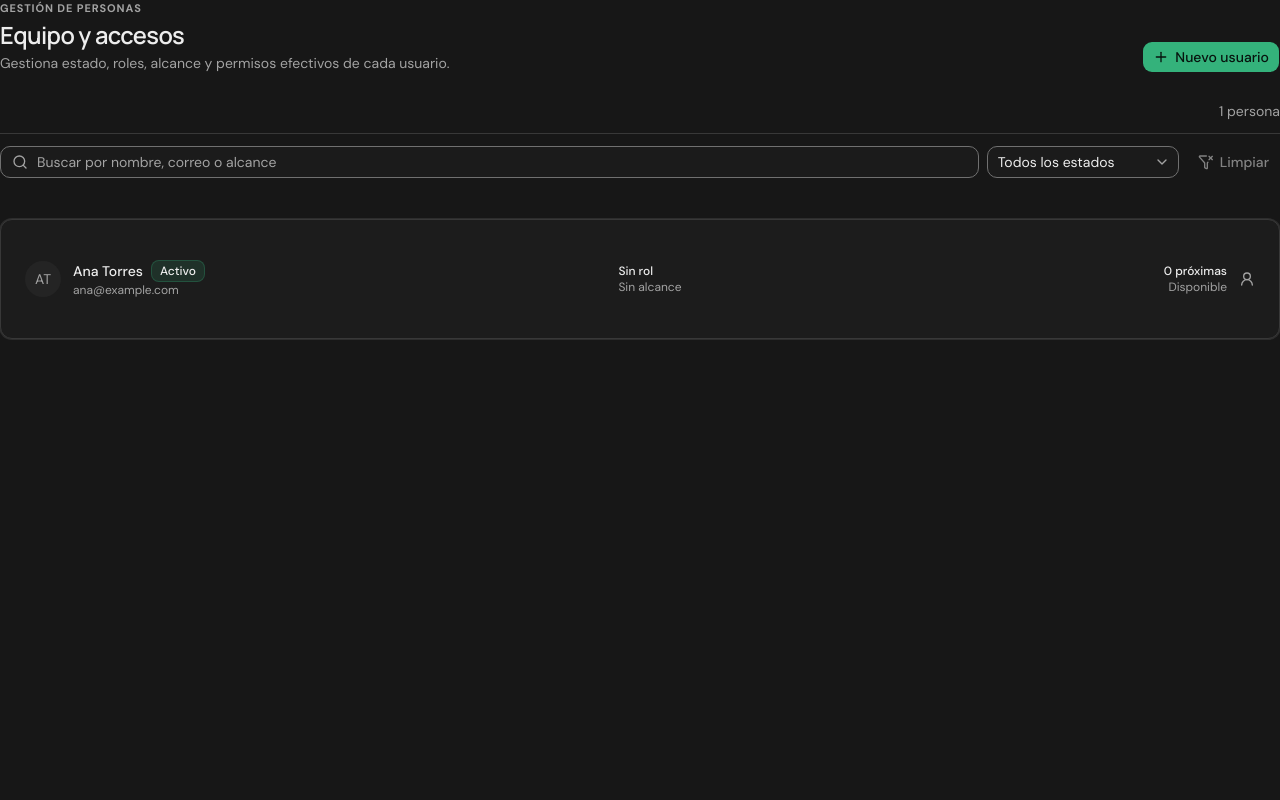
Test case: TeamWorkspace › exposes create and edit identity flows only to a global administrator
This screenshot has width=1280, height=800.
Expected: the button "Nuevo usuario" is shown, [1142, 41, 1279, 73]
Click the button "Ana Torres" at (640, 279), box [13, 248, 1267, 310]
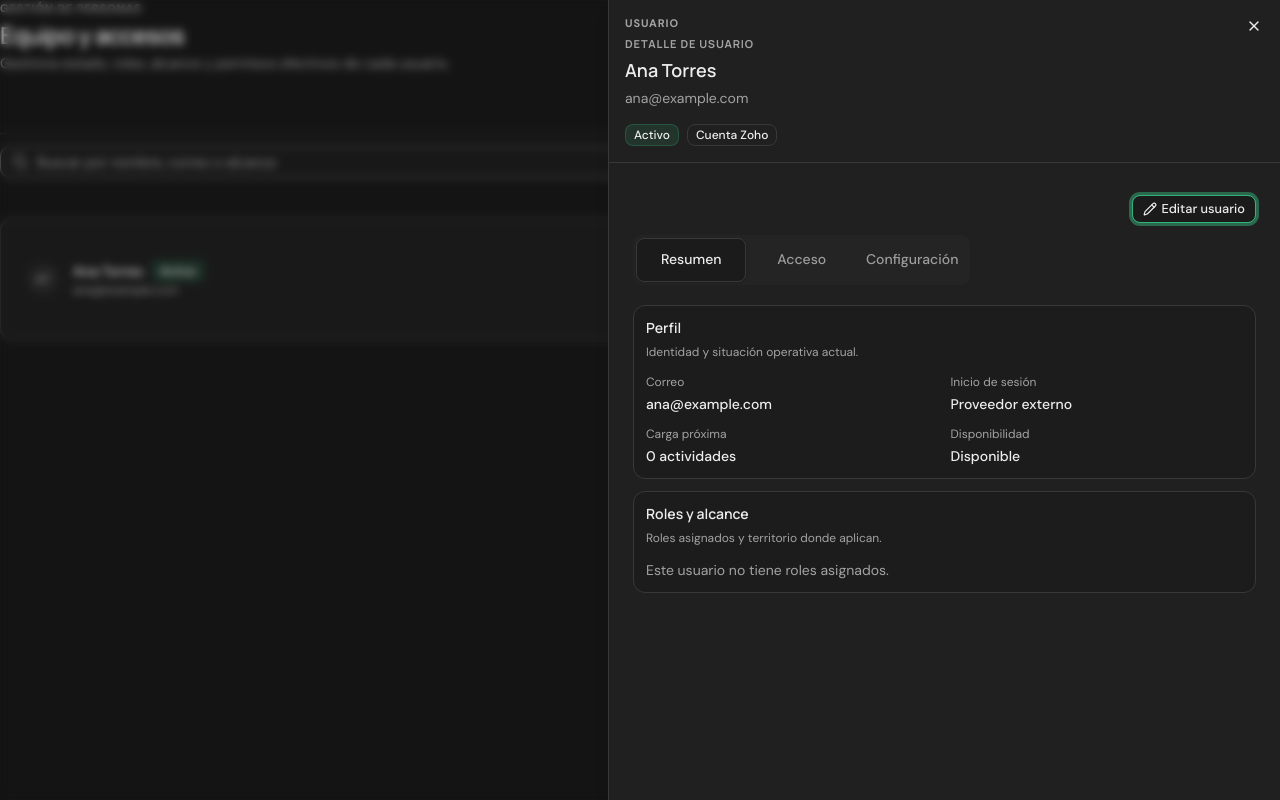
Expected: the button "Editar usuario" is shown, [1132, 195, 1256, 223]
